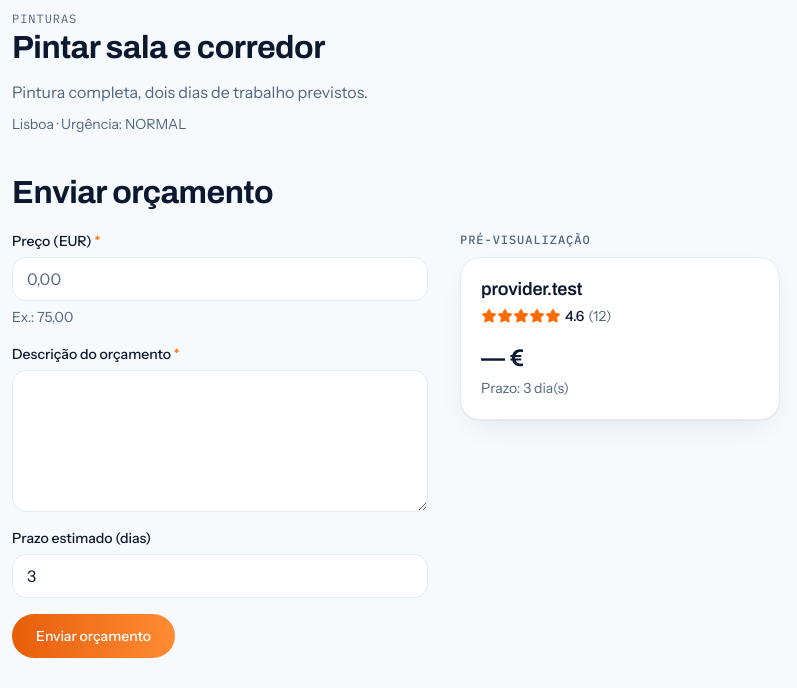
Test: ProviderRequestDetailPage — formulário de orçamento › 403 subscription-required renderiza o painel de upsell, não um erro genérico
The image size is (797, 688).
Type "75,00" into the field labelled "Preço (EUR) *" at (220, 279), box [12,257,428,301]
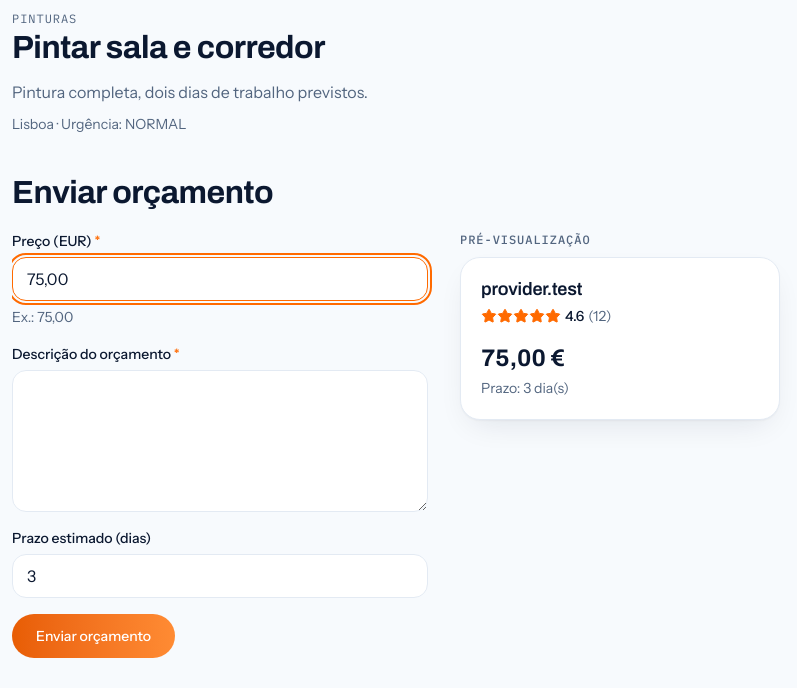
Type "Pintura completa, dois dias de trabalho." into the text box labelled "Descrição do orçamento *" at (220, 441), box [12,370,428,512]
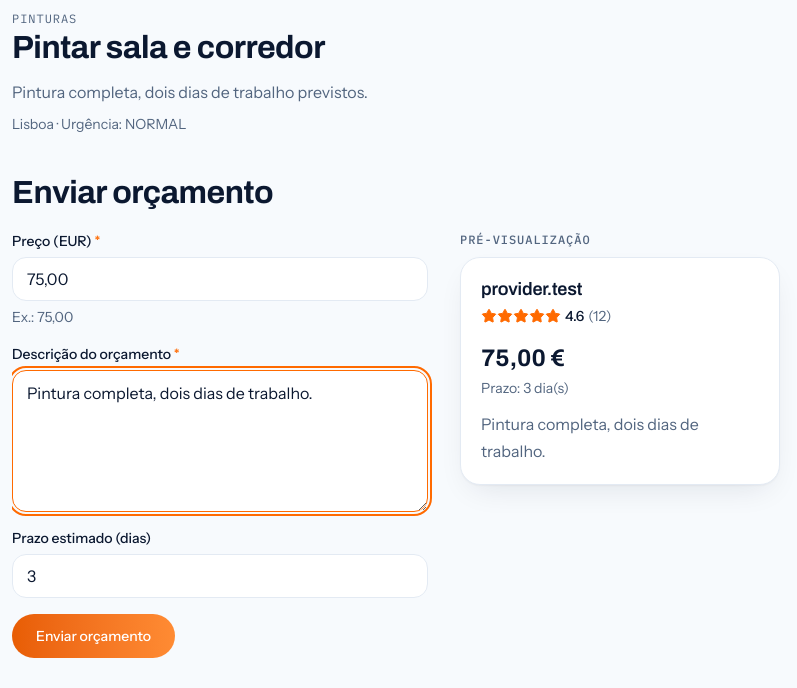
Click the button "Enviar orçamento" at (94, 636), box [12,614,175,658]
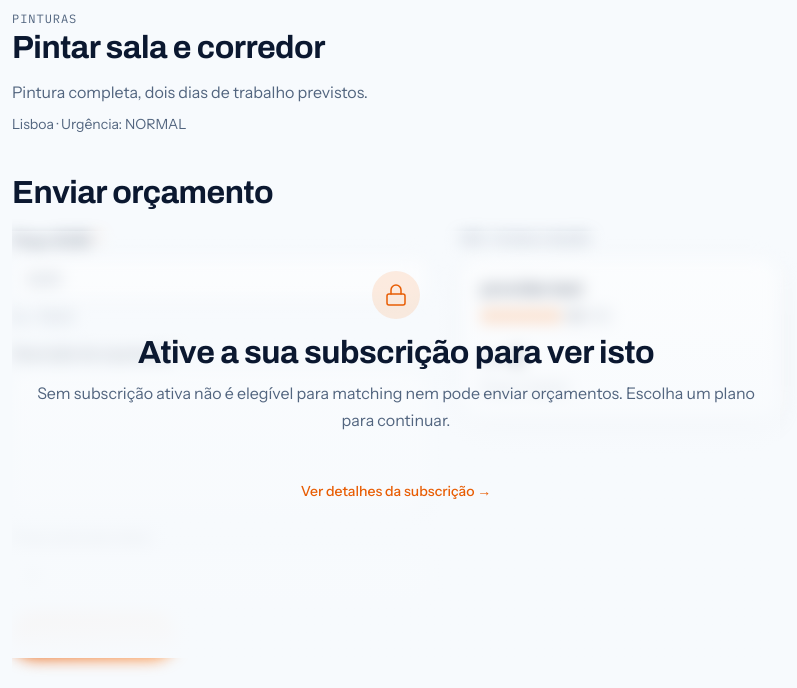
Result: the heading "Ative a sua subscrição para ver isto" is shown at [138,335,654,370]
